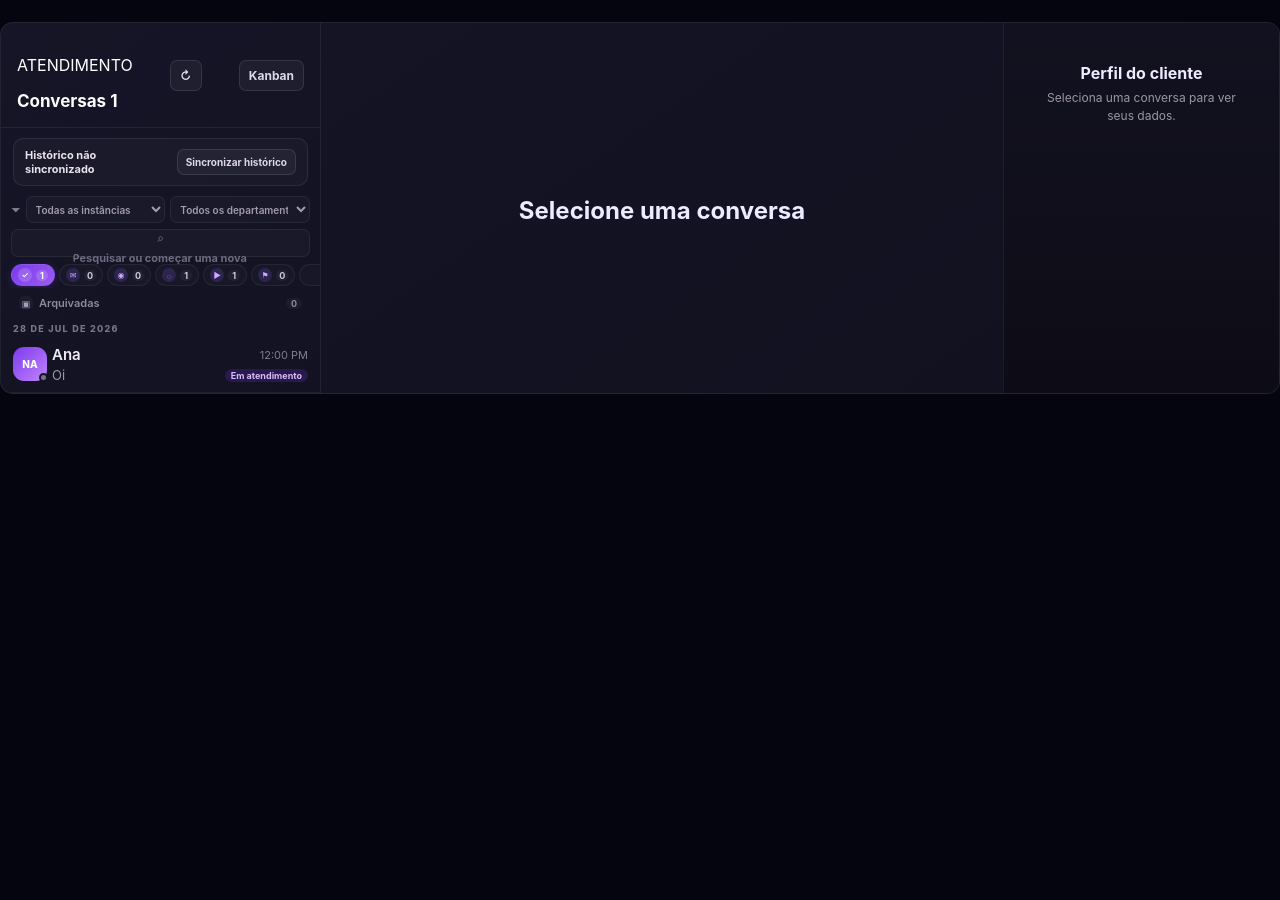
nota de voz › desenha a forma de onda que veio no payload, e mostra a duração antes de tocar
Click the button with class "conversation-item".
click(30, 364)  # box [1,336,320,393]
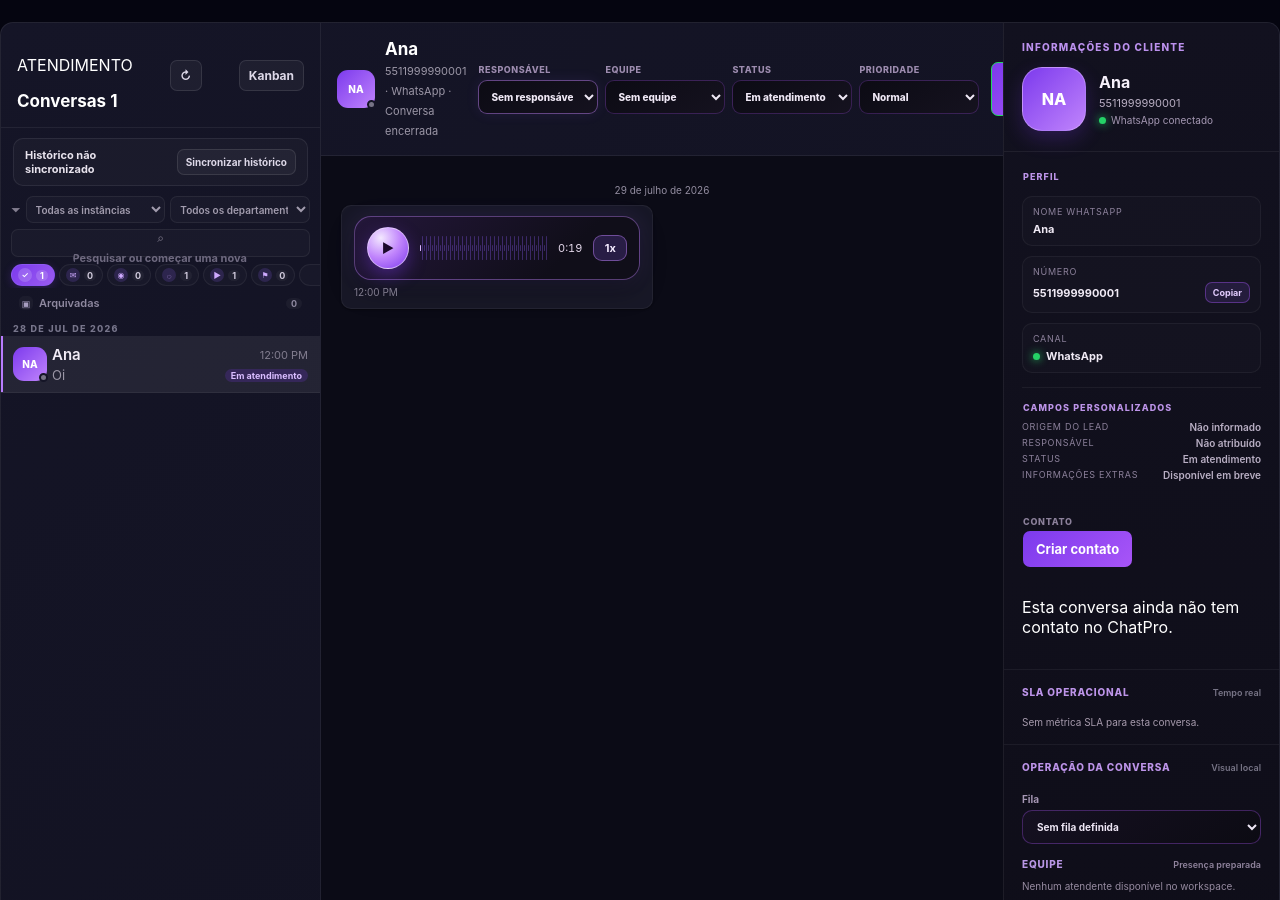
Expected: the text "0:19" is shown, [558,241,582,255]
Expected: the button named "Velocidade 1x" is shown, [593,235,627,261]
